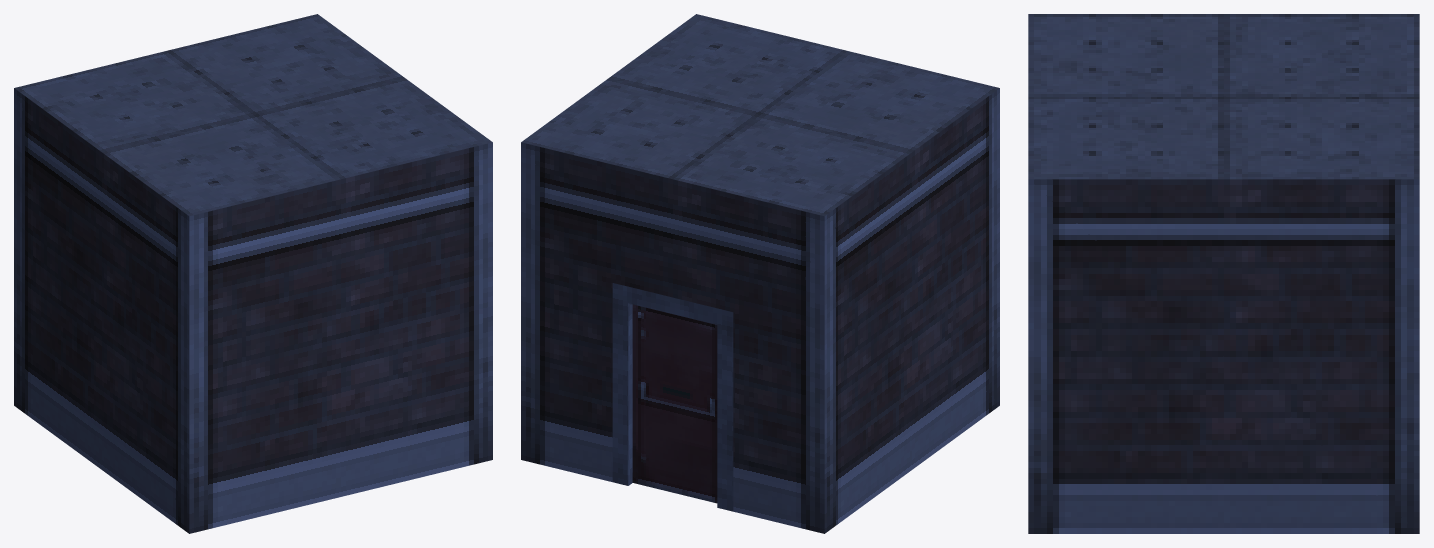
The picture shows the model from 3 angles, left to right: view 1: azimuth 30°, elevation 25°; view 2: azimuth 150°, elevation 25°; view 3: azimuth 270°, elevation 25°; orthographic projection. The views are drawn at different scales.
Parts seen in each view (by area): view 1: wall-a-door; view 2: wall-a-door; view 3: wall-a-door.
Part boxes in pixels (x1,y1,x2,y2): wall-a-door: [14, 14, 492, 533]; wall-a-door: [521, 14, 999, 533]; wall-a-door: [1028, 14, 1419, 533].
Size of the model in its own units: 1 by 1 by 1.
Materials: 4 (4 with a texture image).
